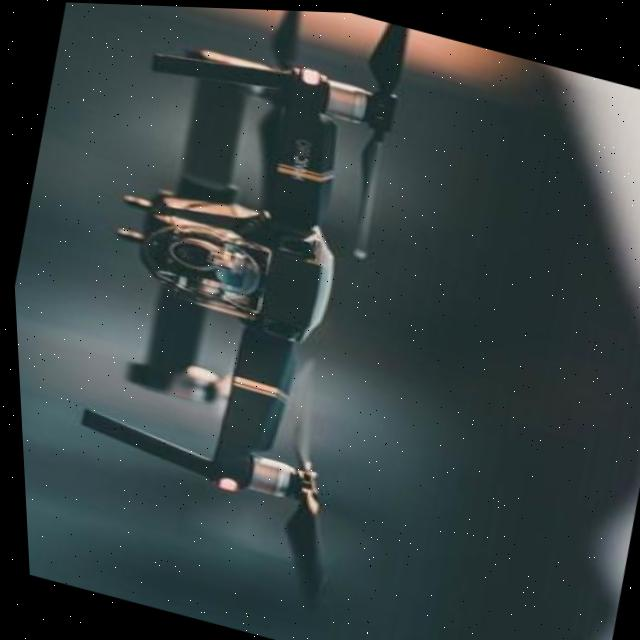drones: (0, 0, 536, 640)
